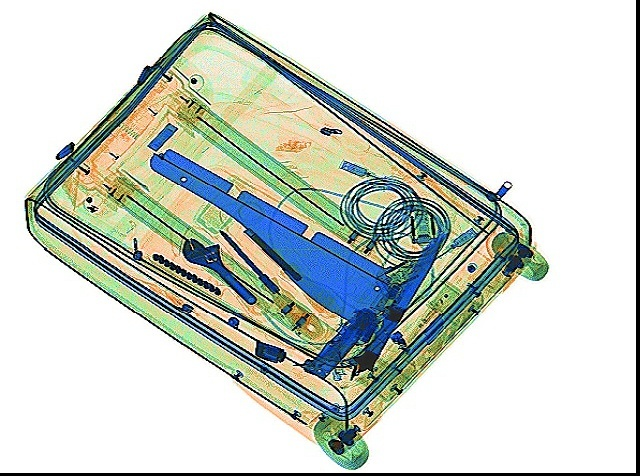knife: (347, 232, 442, 374), (297, 305, 380, 381)
lighter: (331, 364, 389, 382)
